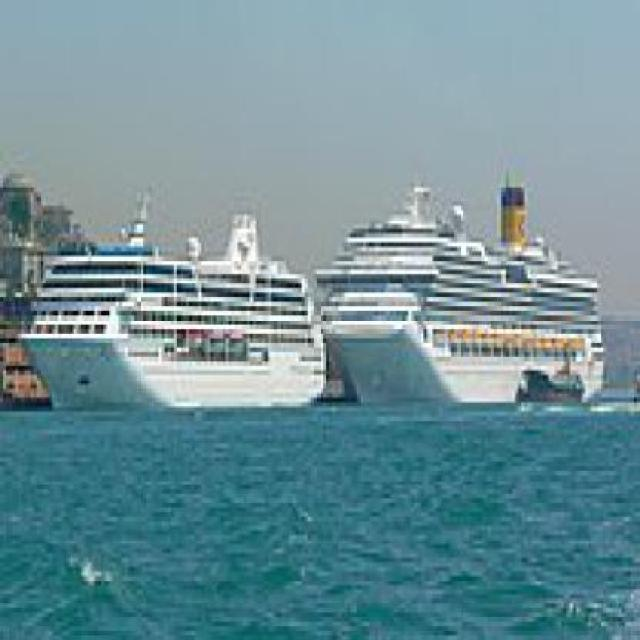cruise: (11, 179, 340, 417), (303, 174, 617, 417)
